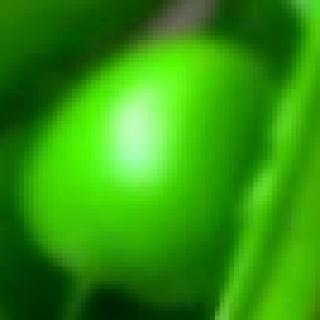bean: (0, 4, 320, 320)
